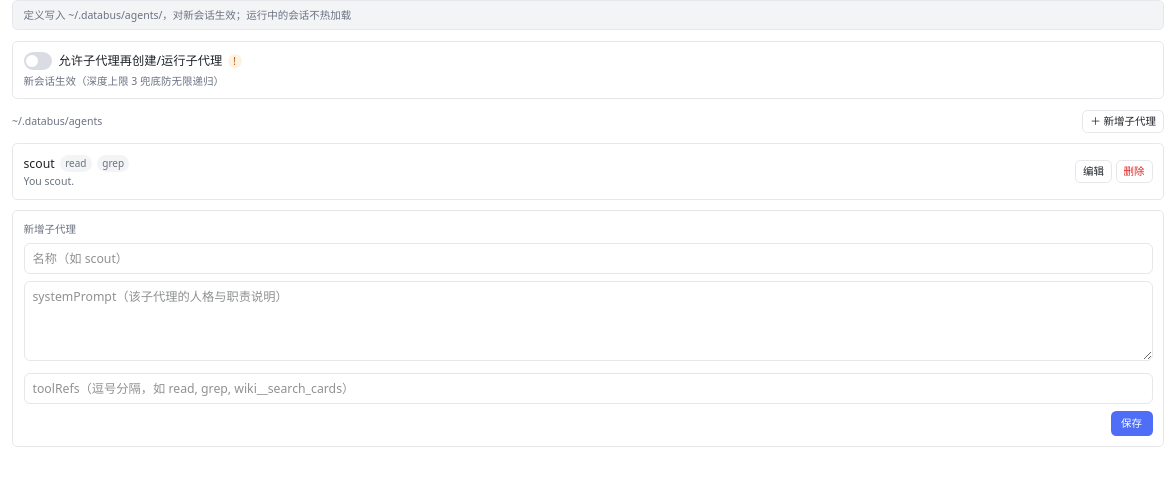
it: SubAgentPanel 关键交互 › 向下开关：初始 off → 点击 → settings.set({subAgentNesting:true}) → aria-checked 翻转（以后端合并结果为准）
What coordinates should you click on to do the following:
click the switch named "允许子代理再创建/运行子代理"
I would click on:
 (38, 61)
Its box is [24, 52, 52, 70].
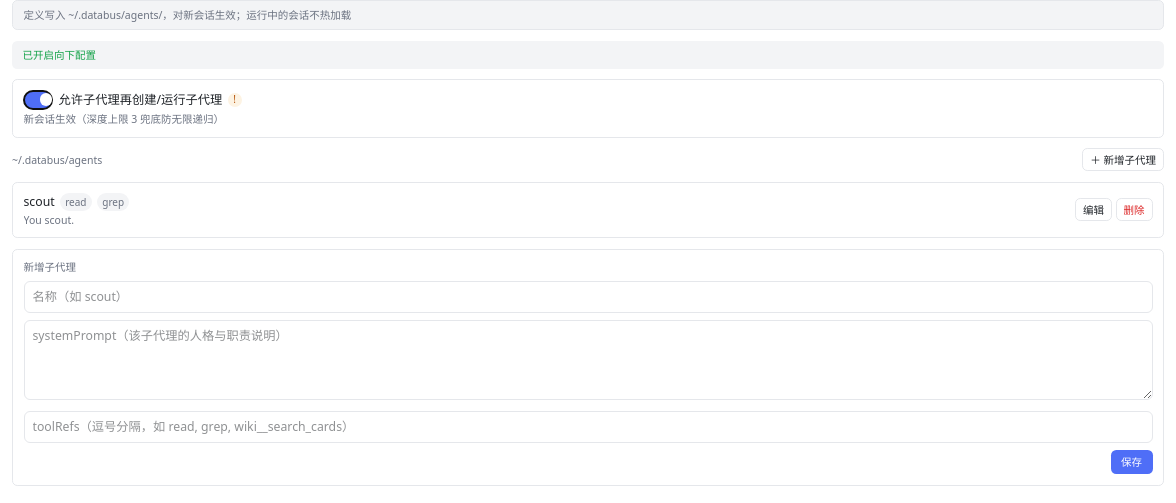
Expected: the text "已开启向下配置" is shown, [12, 40, 1164, 68]
